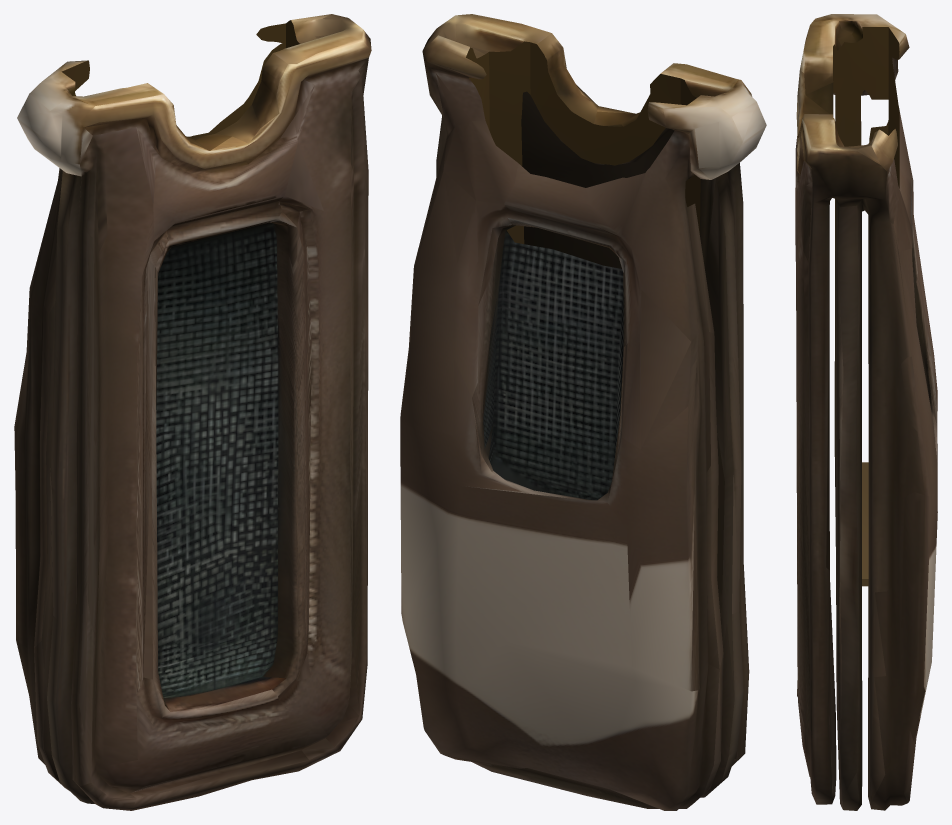
The model's file is FlatSleeve.fbx.
3 renders of one model, left to right at view 1: azimuth 30°, elevation 25°; view 2: azimuth 150°, elevation 25°; view 3: azimuth 270°, elevation 25°, orthographic. The views are drawn at different scales.
Parts seen in each view (by area): view 1: FlatSleeve_LOD0; view 2: FlatSleeve_LOD0; view 3: FlatSleeve_LOD0.
Part boxes in pixels (x1,y1,x2,y2): FlatSleeve_LOD0: [14, 14, 371, 810]; FlatSleeve_LOD0: [400, 14, 766, 810]; FlatSleeve_LOD0: [795, 14, 937, 810].
Size of what is drawn, in the model's own units: 0.0424 by 0.0899 by 0.017.
